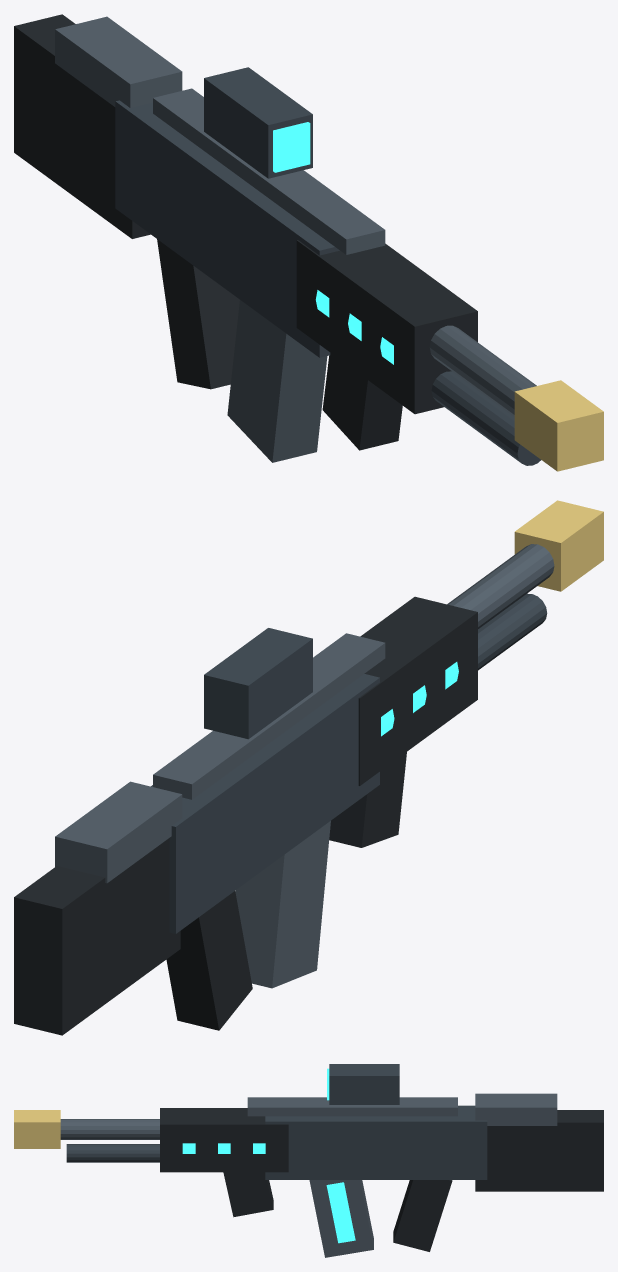
Rendered from kinetic-rifle.glb.
3 views of the same model, one above another, from view 1: azimuth 30°, elevation 25°; view 2: azimuth 150°, elevation 25°; view 3: azimuth 270°, elevation 25° (orthographic). The views are drawn at different scales.
Parts seen in each view (by area): view 1: Receiver, Barrel_Shroud, Stock, Plasma_Magazine, Top_Rail, Pistol_Grip, Cheek_Rest, Scope_Housing, Muzzle_Compensator, Tactical_Foregrip, Gauss_Barrel_Top, Gauss_Barrel_Bottom (+1 smaller); view 2: Receiver, Stock, Barrel_Shroud, Plasma_Magazine, Scope_Housing, Top_Rail, Pistol_Grip, Cheek_Rest, Muzzle_Compensator, Gauss_Barrel_Top, Tactical_Foregrip, Gauss_Barrel_Bottom; view 3: Receiver, Stock, Barrel_Shroud, Top_Rail, Plasma_Magazine, Pistol_Grip, Scope_Housing, Cheek_Rest, Gauss_Barrel_Top, Tactical_Foregrip, Muzzle_Compensator, Gauss_Barrel_Bottom (+1 smaller).
Boxes of the visible parts, bbox=[...] form: Receiver: bbox=[115, 100, 339, 357]; Barrel_Shroud: bbox=[296, 240, 477, 414]; Stock: bbox=[14, 14, 150, 238]; Plasma_Magazine: bbox=[227, 300, 327, 462]; Top_Rail: bbox=[153, 88, 385, 254]; Pistol_Grip: bbox=[157, 239, 239, 389]; Cheek_Rest: bbox=[55, 16, 182, 107]; Scope_Housing: bbox=[204, 67, 312, 178]; Muzzle_Compensator: bbox=[514, 380, 603, 471]; Tactical_Foregrip: bbox=[322, 353, 402, 450]; Gauss_Barrel_Top: bbox=[429, 325, 536, 416]; Gauss_Barrel_Bottom: bbox=[431, 371, 540, 465]; Receiver: bbox=[151, 674, 379, 933]; Stock: bbox=[14, 838, 180, 1035]; Barrel_Shroud: bbox=[358, 596, 477, 785]; Plasma_Magazine: bbox=[235, 821, 330, 988]; Scope_Housing: bbox=[204, 628, 312, 739]; Top_Rail: bbox=[153, 633, 385, 799]; Pistol_Grip: bbox=[166, 891, 252, 1030]; Cheek_Rest: bbox=[55, 781, 182, 883]; Muzzle_Compensator: bbox=[514, 500, 603, 591]; Gauss_Barrel_Top: bbox=[447, 544, 554, 628]; Tactical_Foregrip: bbox=[329, 752, 406, 847]; Gauss_Barrel_Bottom: bbox=[478, 593, 547, 670]; Receiver: bbox=[265, 1105, 487, 1179]; Stock: bbox=[475, 1110, 603, 1191]; Barrel_Shroud: bbox=[160, 1108, 288, 1172]; Top_Rail: bbox=[247, 1097, 457, 1116]; Plasma_Magazine: bbox=[309, 1180, 373, 1257]; Pistol_Grip: bbox=[393, 1180, 452, 1251]; Scope_Housing: bbox=[329, 1064, 399, 1104]; Cheek_Rest: bbox=[475, 1093, 557, 1125]; Gauss_Barrel_Top: bbox=[60, 1119, 159, 1139]; Tactical_Foregrip: bbox=[223, 1172, 273, 1217]; Muzzle_Compensator: bbox=[14, 1110, 60, 1148]; Gauss_Barrel_Bottom: bbox=[66, 1144, 159, 1162].
Bounding box in the file's own units: 0.072 × 0.3438 × 1.01.
